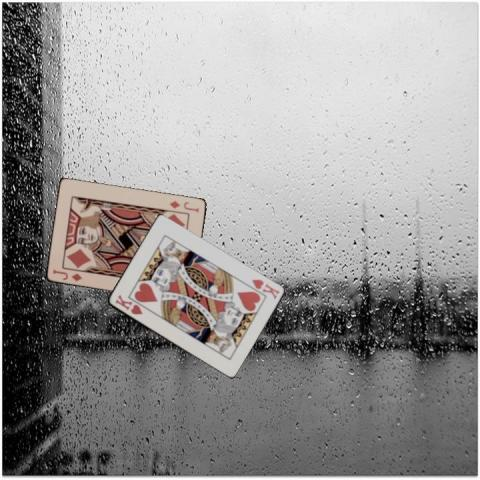Jd: (50, 266, 84, 283), (166, 198, 200, 214)
Kh: (248, 276, 281, 301), (112, 292, 143, 316)
